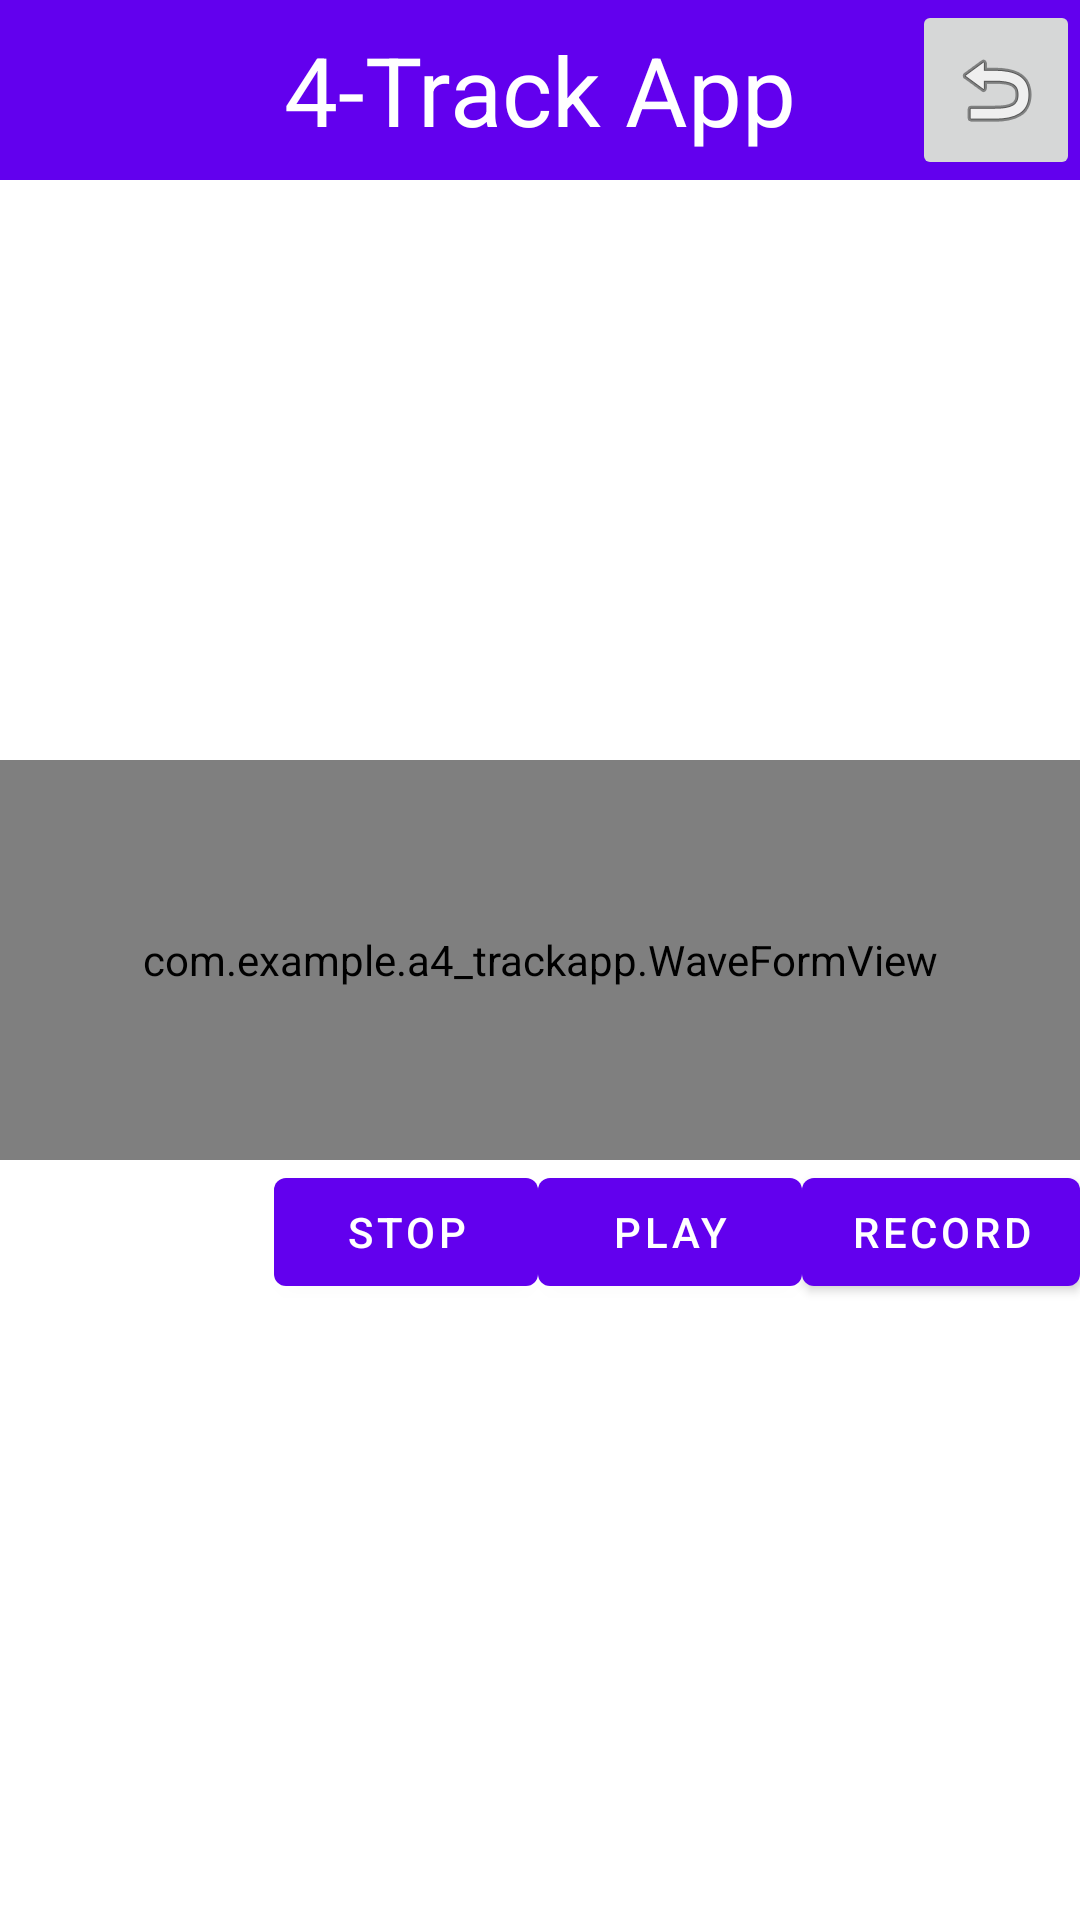

Where icons sit on this 1080×1920 app screen, as (x1,y1,x2,y2):
revert: (924,18,1068,162)
